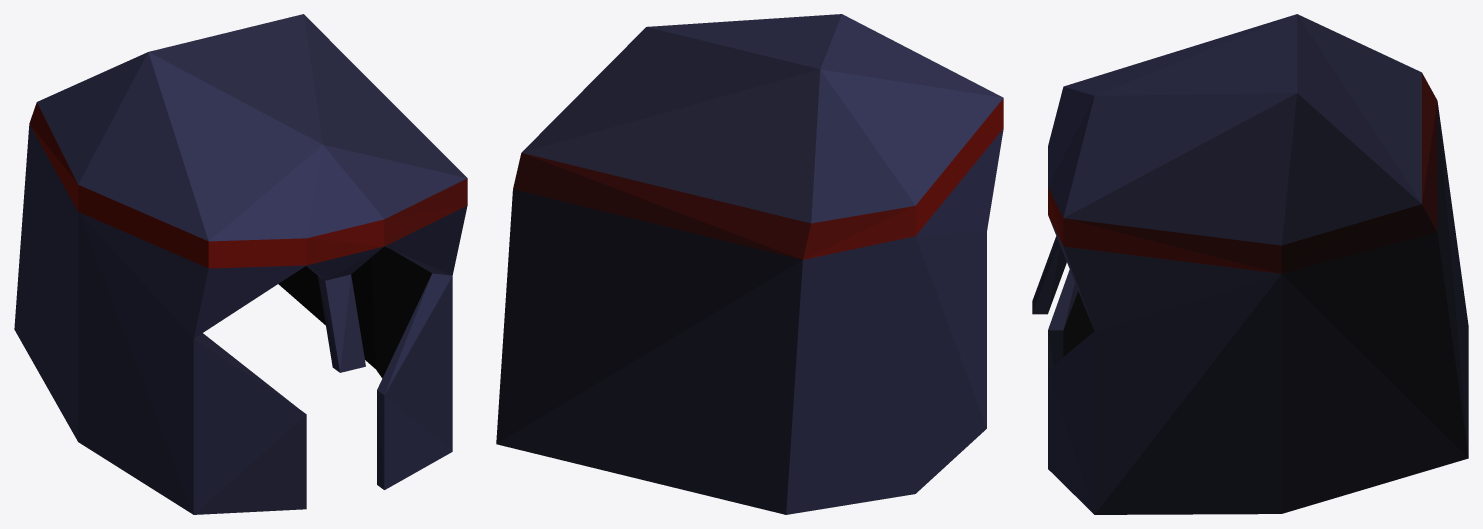
File: mithril-med-helm.obj
3 renders of one model, left to right at view 1: azimuth 30°, elevation 25°; view 2: azimuth 150°, elevation 25°; view 3: azimuth 270°, elevation 25°, orthographic. The views are drawn at different scales.
Visible parts, largest first — view 1: Item Mithril med helm 2026-09-24_18-17-38; view 2: Item Mithril med helm 2026-09-24_18-17-38; view 3: Item Mithril med helm 2026-09-24_18-17-38.
Part boxes in pixels (left/top/right/bottom): Item Mithril med helm 2026-09-24_18-17-38: left=14, top=14, right=467, bottom=514; Item Mithril med helm 2026-09-24_18-17-38: left=496, top=14, right=1003, bottom=514; Item Mithril med helm 2026-09-24_18-17-38: left=1032, top=14, right=1468, bottom=514.
Size of the model in its own units: 24 by 28 by 28.
